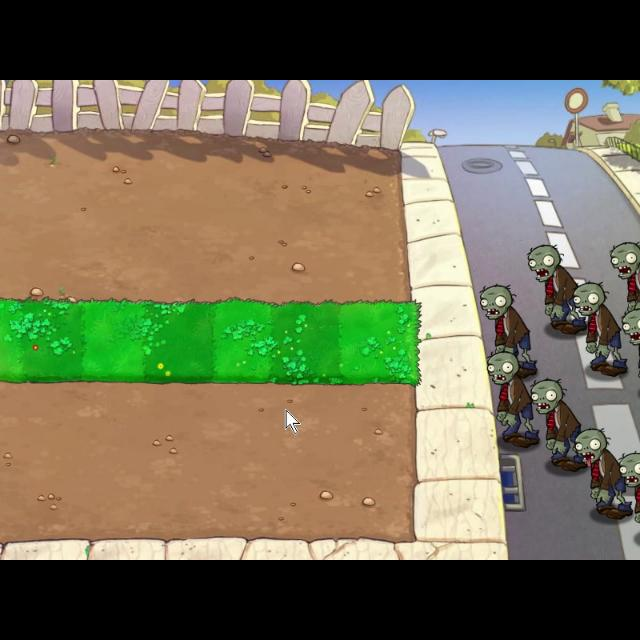Garden: (1, 294, 426, 392)
Zombie: (476, 283, 540, 382), (524, 241, 588, 337), (570, 282, 630, 381), (530, 377, 590, 473), (482, 352, 538, 450), (579, 424, 627, 522), (608, 240, 640, 308), (618, 448, 640, 526), (618, 307, 640, 377)
